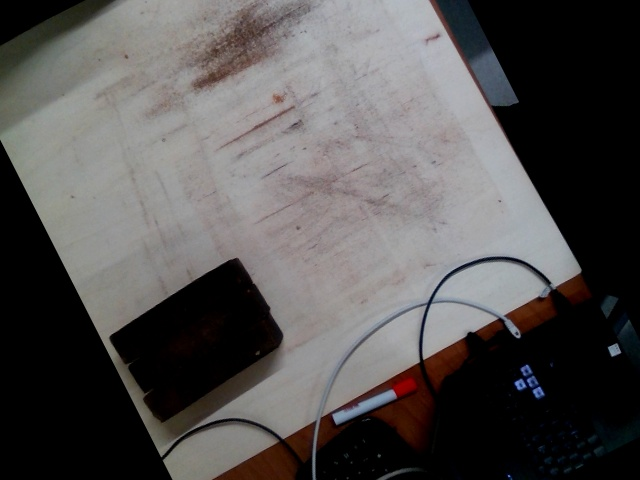brick-side: (109, 258, 245, 361), (143, 320, 278, 423), (128, 288, 263, 390)
